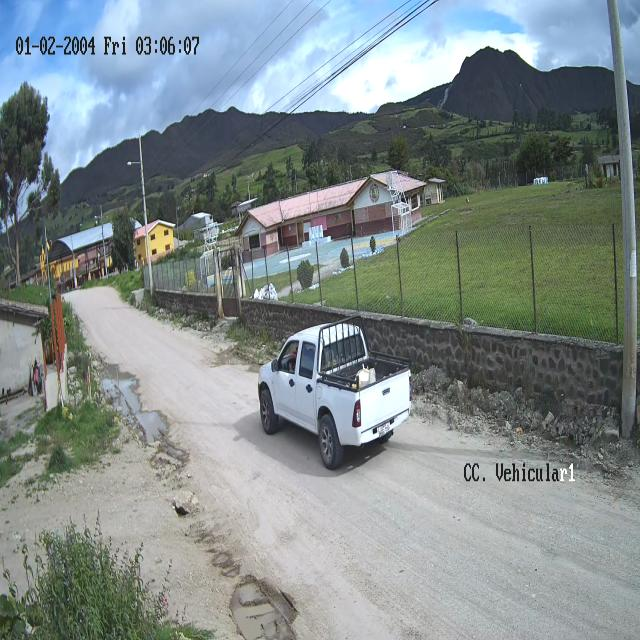CMT: (256, 324, 413, 471)
